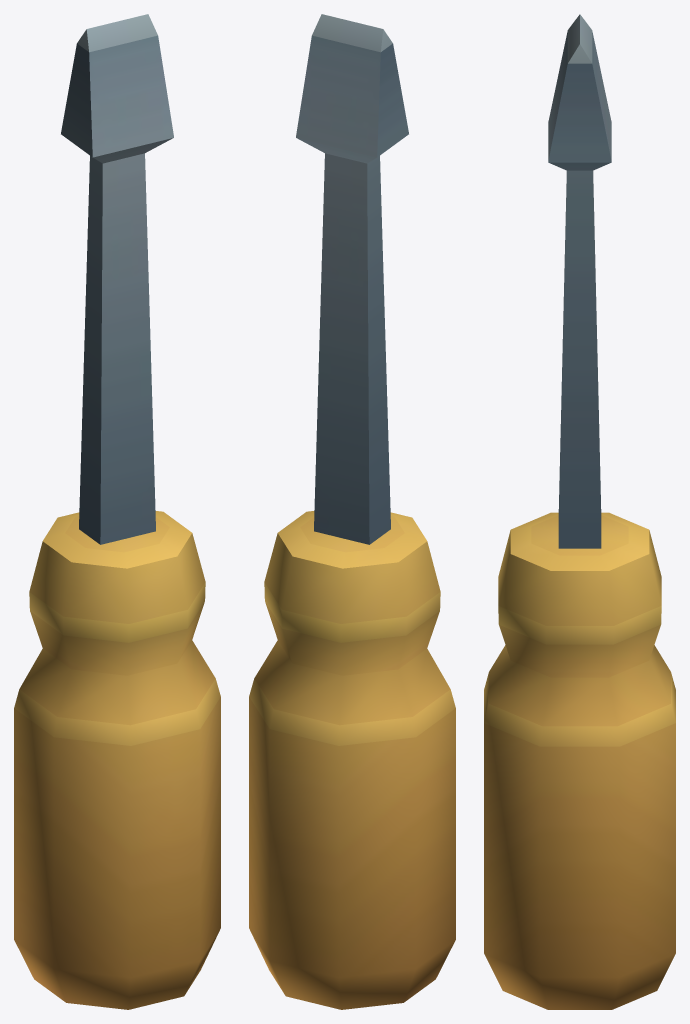
The model's file is screwdriver_a_long_color.glb.
3 views of the same model, side by side, from view 1: azimuth 30°, elevation 25°; view 2: azimuth 150°, elevation 25°; view 3: azimuth 270°, elevation 25° (orthographic).
Visible parts, largest first — view 1: screwdriver_A_long_color; view 2: screwdriver_A_long_color; view 3: screwdriver_A_long_color.
Boxes of the visible parts, <box> form: screwdriver_A_long_color: <box>14,14,220,1009</box>; screwdriver_A_long_color: <box>249,14,455,1009</box>; screwdriver_A_long_color: <box>484,14,675,1009</box>.
Bounding box in the file's own units: 0.1513 × 0.8434 × 0.1513.
Materials: 1 (1 with a texture image).
